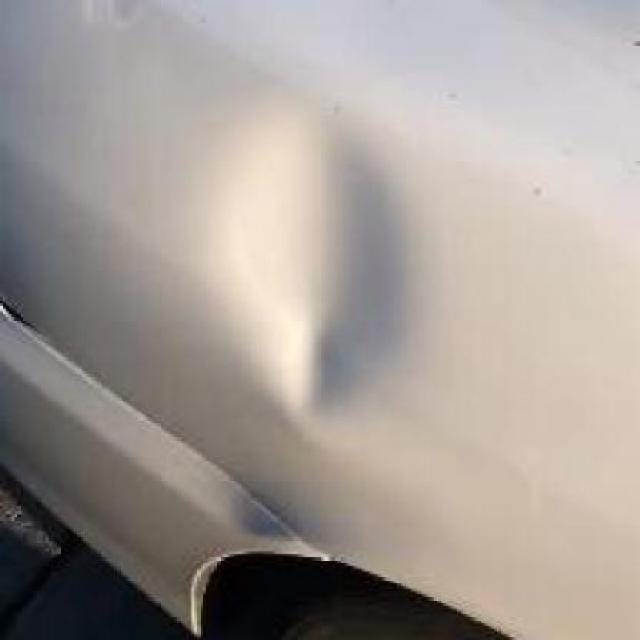dent-or-scratch: (206, 98, 428, 452)
